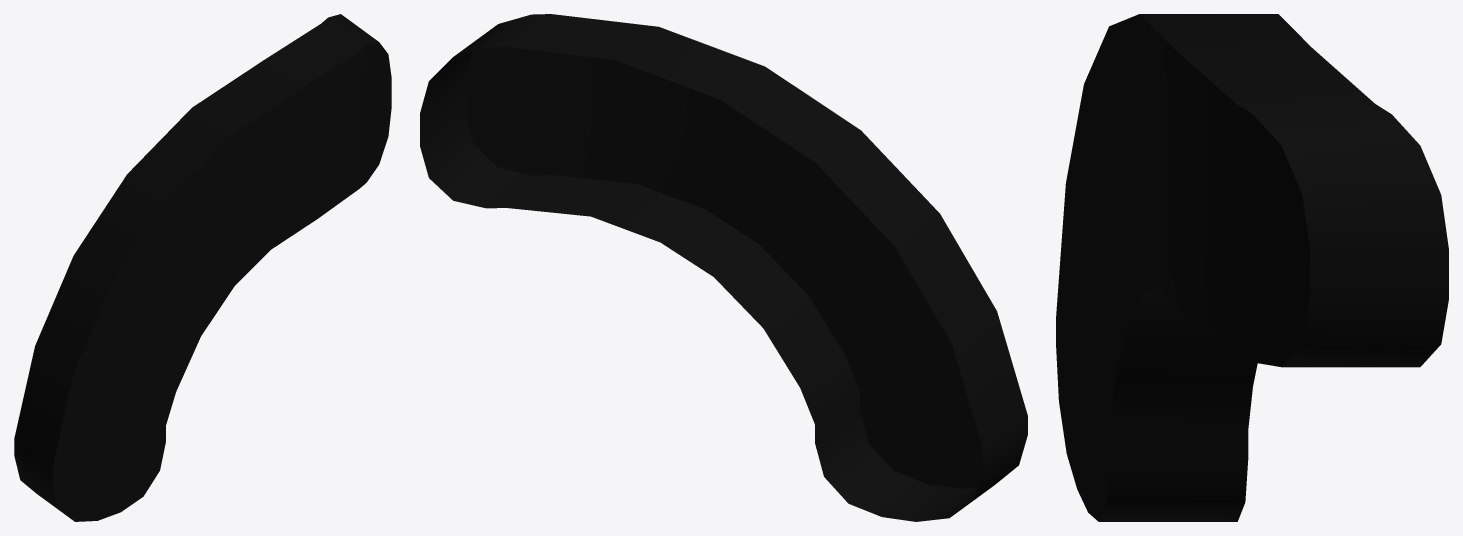
File: Mouth_D_Meh_01.fbx
3 views of the same model, side by side, from view 1: azimuth 30°, elevation 25°; view 2: azimuth 150°, elevation 25°; view 3: azimuth 270°, elevation 25° (orthographic). The views are drawn at different scales.
Visible parts, largest first — view 1: Mouth_D_Meh_01; view 2: Mouth_D_Meh_01; view 3: Mouth_D_Meh_01.
Boxes of the visible parts, bbox=[...] form: Mouth_D_Meh_01: bbox=[14, 14, 391, 521]; Mouth_D_Meh_01: bbox=[420, 14, 1027, 521]; Mouth_D_Meh_01: bbox=[1056, 14, 1448, 521].
Bounding box in the file's own units: 21.12 × 17.86 × 9.7.
